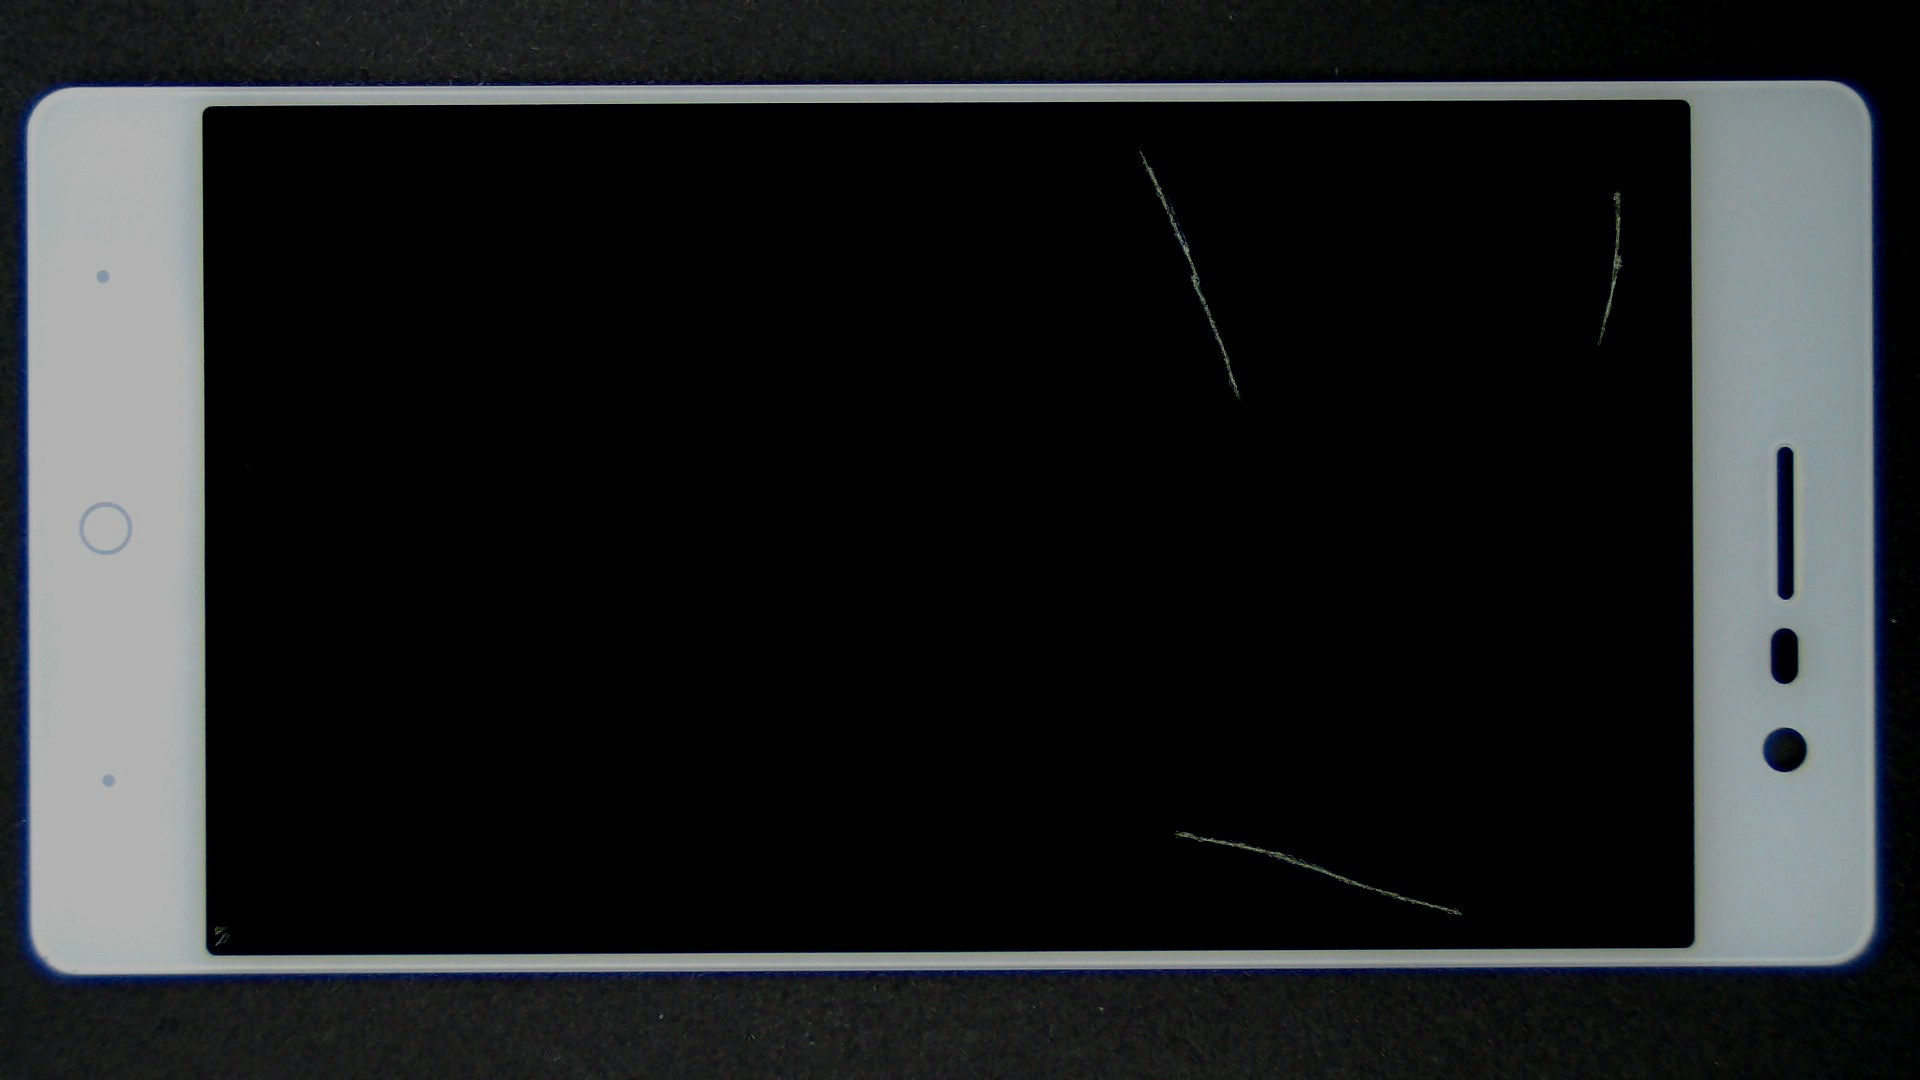oil: (588, 414, 1763, 1080), (808, 94, 1920, 285), (568, 73, 1704, 219), (109, 462, 323, 1080)
